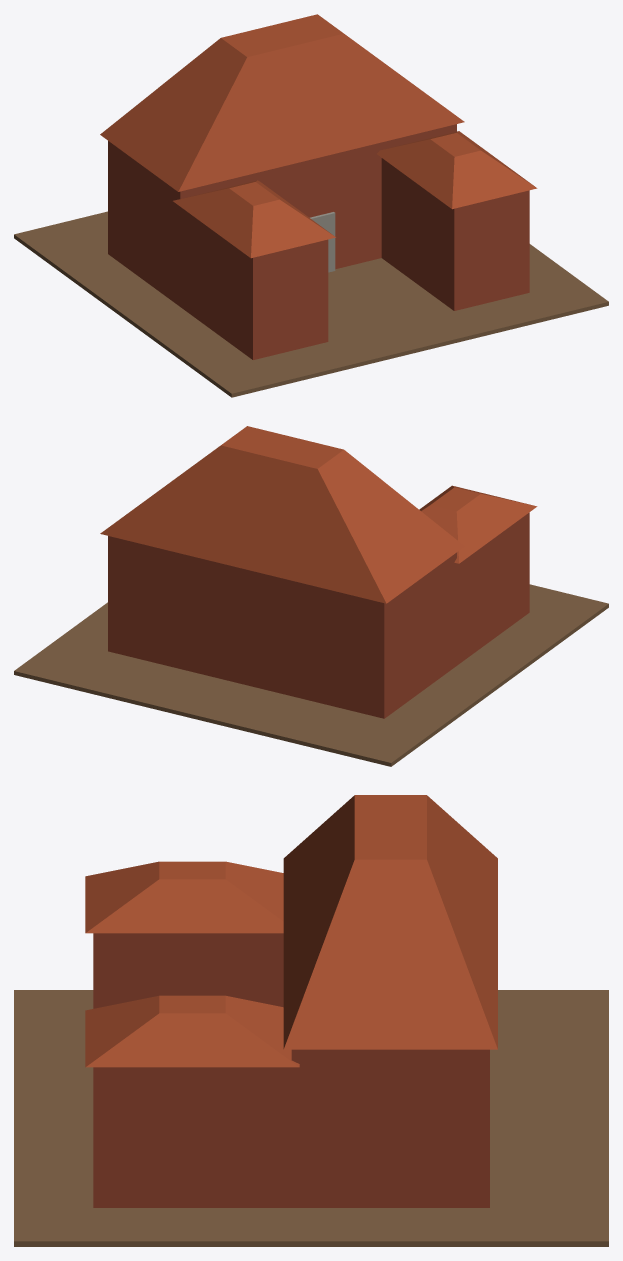
The model's file is bld_special_hospital_a04_lod2.glb.
The picture shows the model from 3 angles, top to bottom: view 1: azimuth 30°, elevation 25°; view 2: azimuth 150°, elevation 25°; view 3: azimuth 270°, elevation 25°; orthographic projection. The views are drawn at different scales.
Parts seen in each view (by area): view 1: body; view 2: body; view 3: body.
Part boxes in pixels (x1,y1,x2,y2): body: (14, 14, 608, 397); body: (14, 426, 608, 766); body: (14, 795, 608, 1246).
Size of the model in its own units: 15 by 8.17 by 15.
